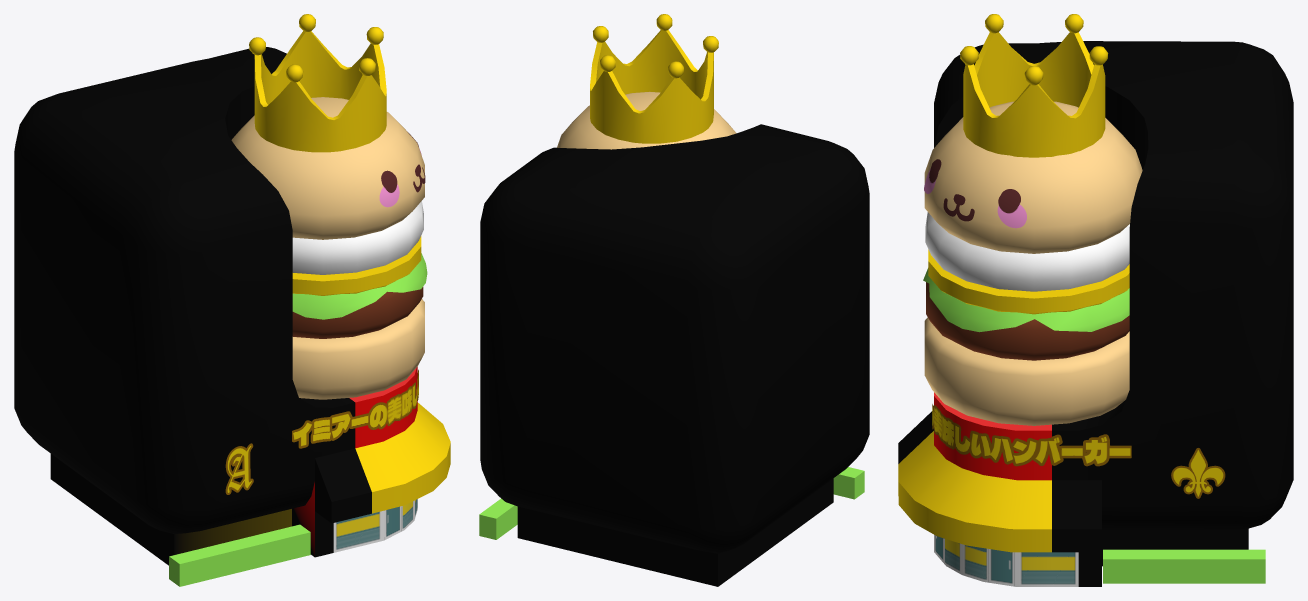
Rendered from Town_Bld_FastFood_B.FBX.
3 renders of one model, left to right at view 1: azimuth 30°, elevation 25°; view 2: azimuth 150°, elevation 25°; view 3: azimuth 270°, elevation 25°, orthographic. The views are drawn at different scales.
Visible parts, largest first — view 1: Town_Bld_FastFood_B; view 2: Town_Bld_FastFood_B; view 3: Town_Bld_FastFood_B.
Boxes of the visible parts, x1,y1,x2,y2 form: Town_Bld_FastFood_B: (14,14,450,586); Town_Bld_FastFood_B: (479,14,869,586); Town_Bld_FastFood_B: (898,14,1293,586).
Bounding box in the file's own units: 1133 × 1598 × 1133.
